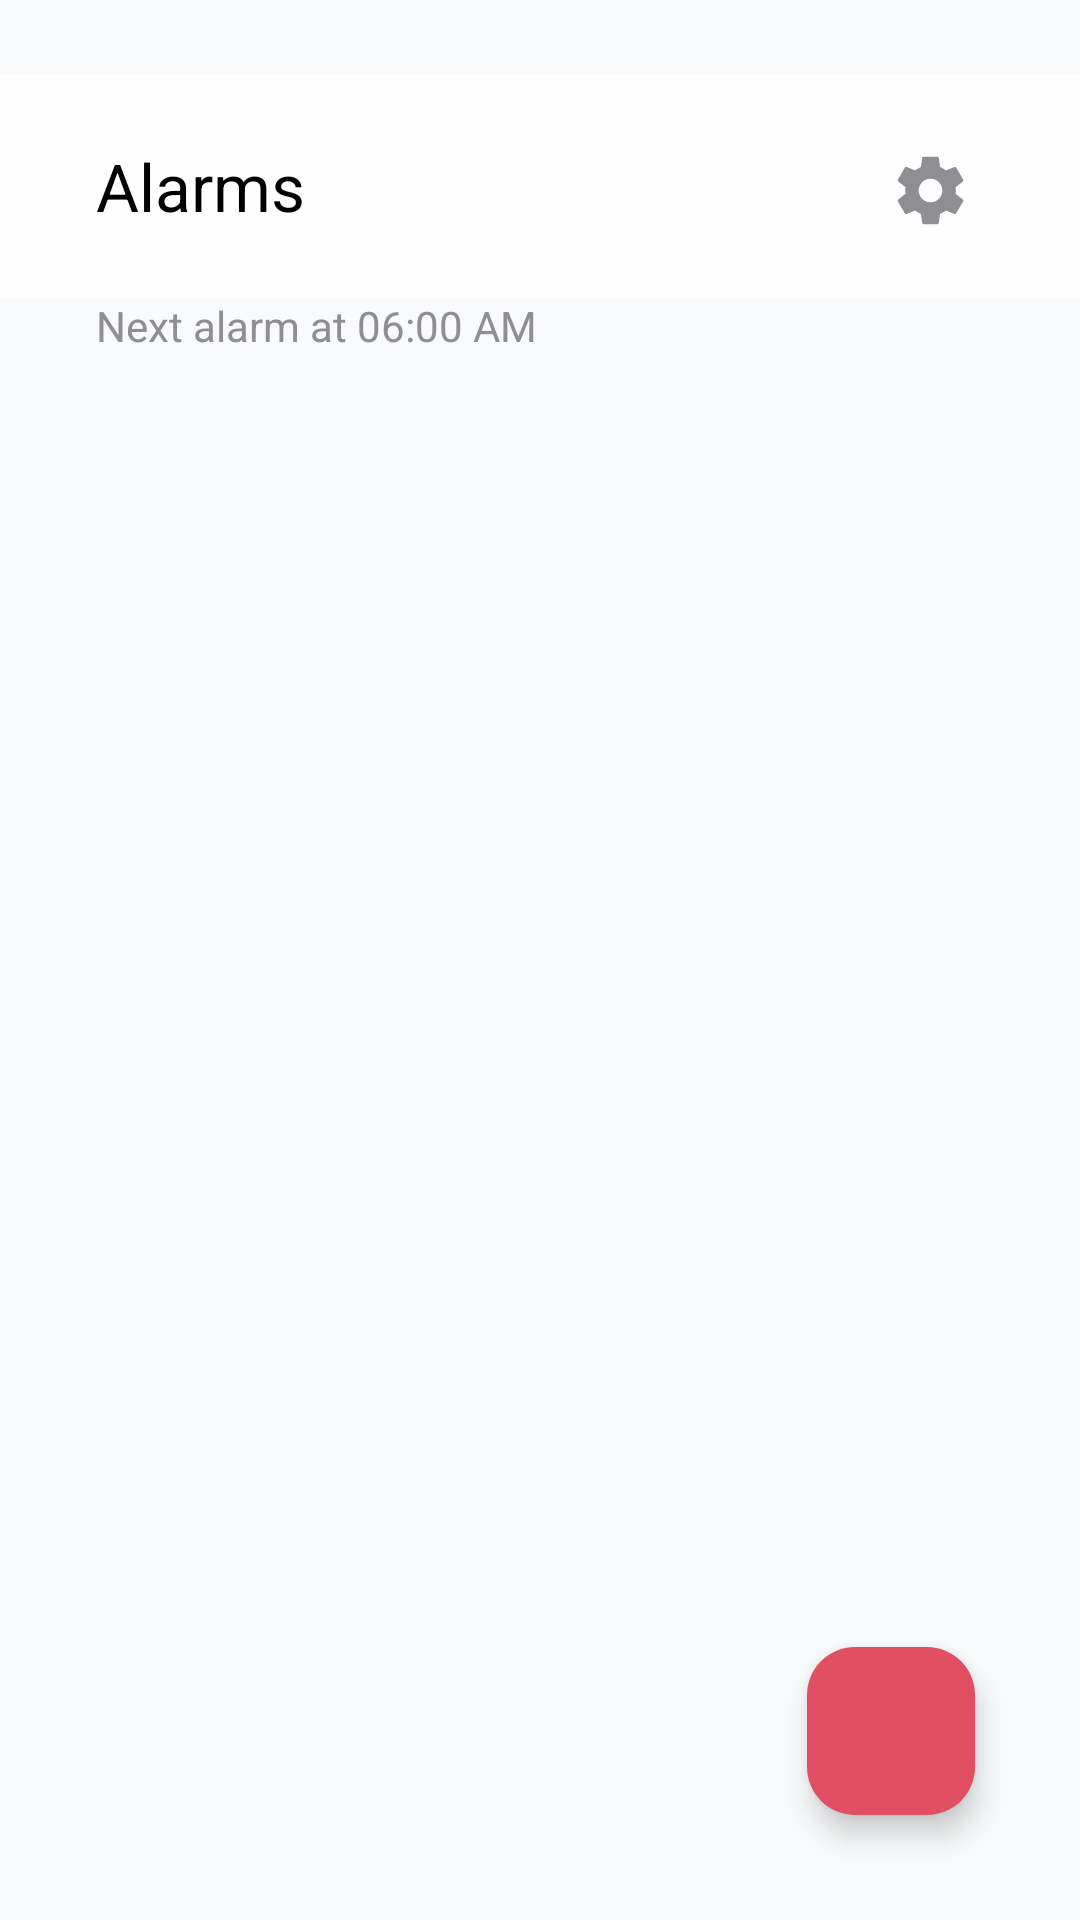

Icons on this 1080px x 1920px Android screen, each with its box as detection(x1, y1, x2, y2):
Settings: detection(897, 156, 964, 225)
